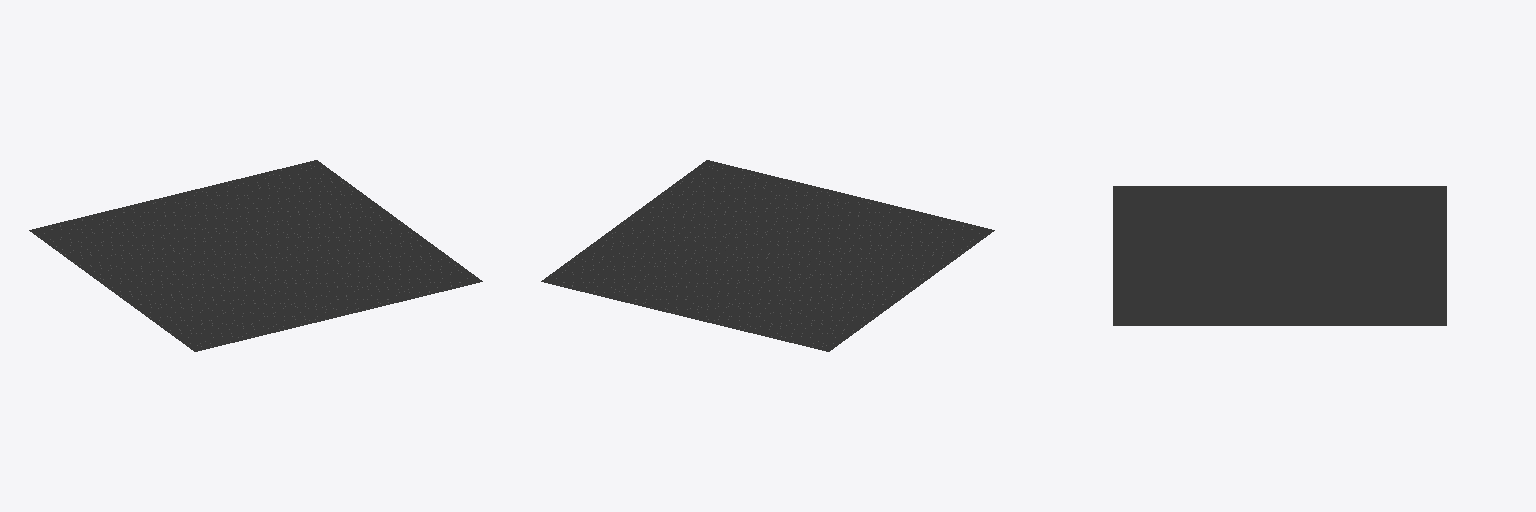
3 renders of one model, left to right at view 1: azimuth 30°, elevation 25°; view 2: azimuth 150°, elevation 25°; view 3: azimuth 270°, elevation 25°, orthographic.
Parts seen in each view (by area): view 1: Mesh; view 2: Mesh; view 3: Mesh.
Boxes of the visible parts, x1,y1,x2,y2 form: Mesh: [29, 160, 482, 351]; Mesh: [541, 160, 994, 351]; Mesh: [1113, 186, 1446, 325].
Size of the model in its own units: 2000 by 0 by 2000.
1 materials, 1 textured.